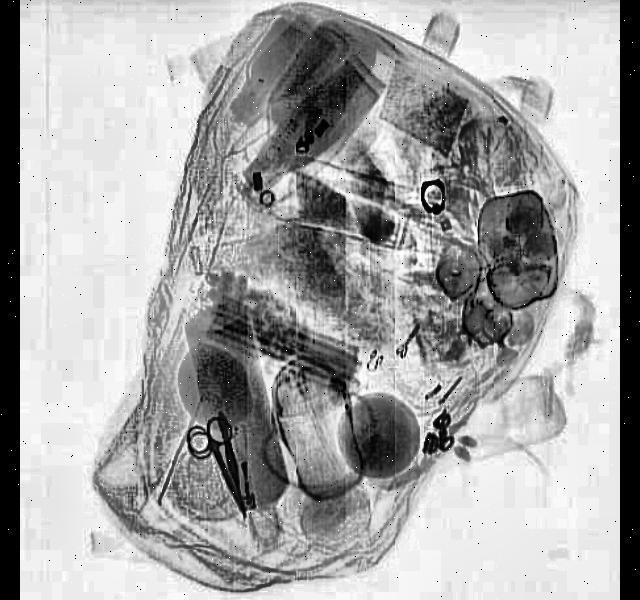Scissors: (180, 406, 264, 522)
